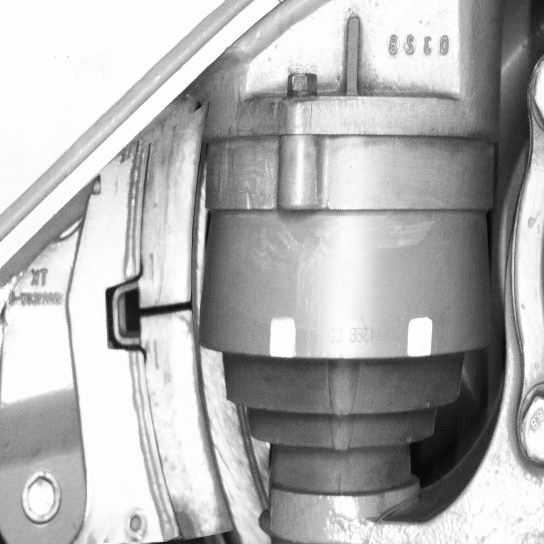ClosedKnifeSwitch: (125, 136, 245, 541)
